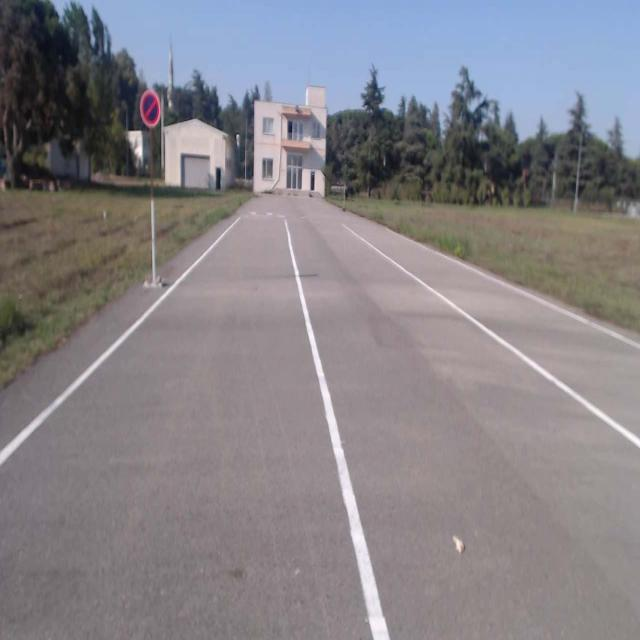parkyasak: (140, 91, 160, 127)
